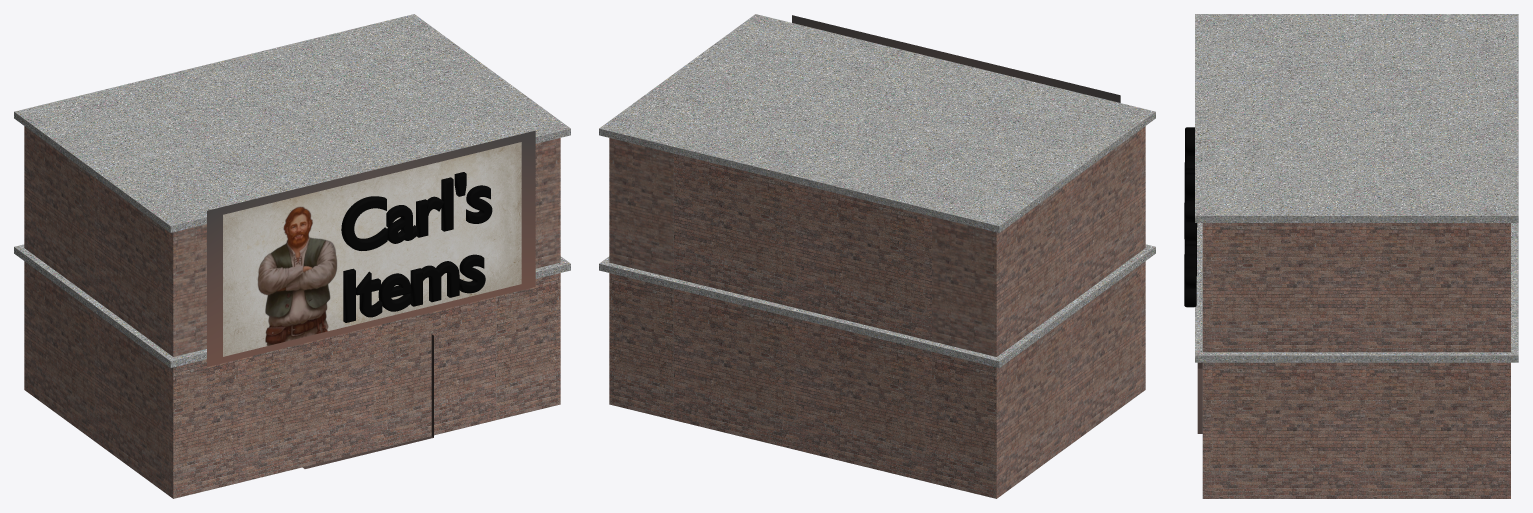
File: shop.fbx
3 renders of one model, left to right at view 1: azimuth 30°, elevation 25°; view 2: azimuth 150°, elevation 25°; view 3: azimuth 270°, elevation 25°, orthographic. The views are drawn at different scales.
Parts seen in each view (by area): view 1: Cube, Plane, Text, Plane.001, Cube.001; view 2: Cube, Plane.001; view 3: Cube, Text, Cube.001.
Part boxes in pixels (bbox=[...]): Cube: bbox=[14, 14, 570, 498]; Plane: bbox=[223, 142, 521, 356]; Text: bbox=[341, 172, 492, 322]; Plane.001: bbox=[207, 130, 535, 366]; Cube.001: bbox=[302, 334, 433, 468]; Cube: bbox=[599, 14, 1155, 498]; Plane.001: bbox=[792, 15, 1120, 102]; Cube: bbox=[1195, 14, 1518, 498]; Text: bbox=[1184, 127, 1197, 307]; Cube.001: bbox=[1197, 362, 1202, 433].
Size of the model in its own units: 620 by 421 by 434.
2 materials, 1 textured.
